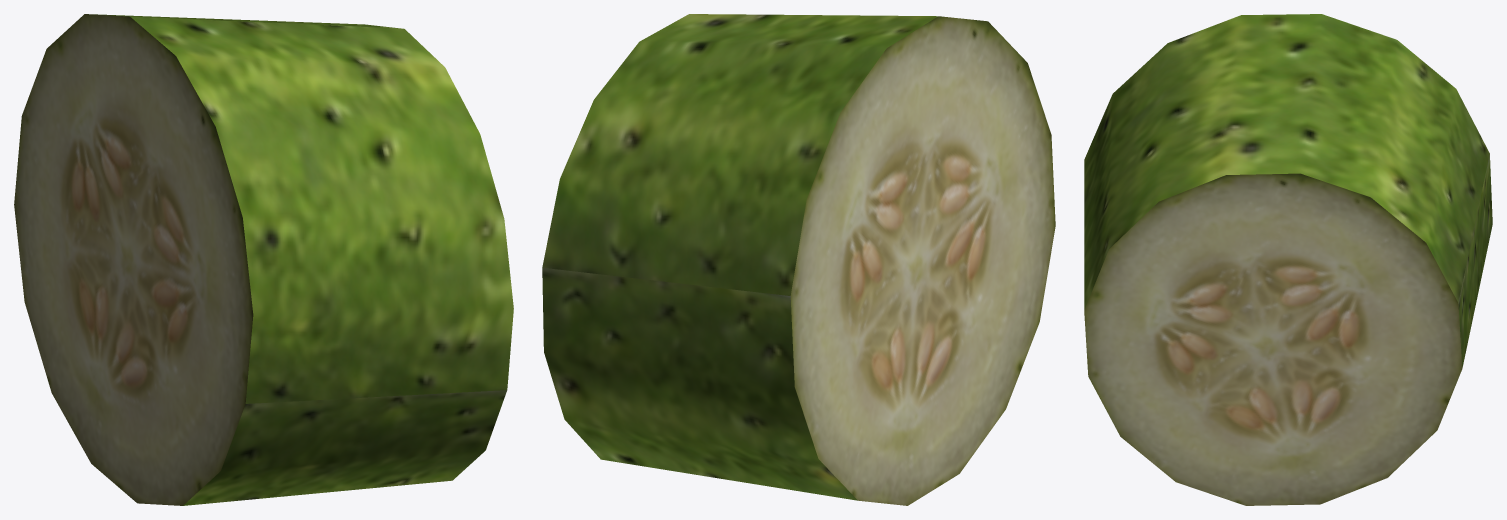
Rendered from cucumber_part_3.fbx.
3 renders of one model, left to right at view 1: azimuth 30°, elevation 25°; view 2: azimuth 150°, elevation 25°; view 3: azimuth 270°, elevation 25°, orthographic. The views are drawn at different scales.
Parts seen in each view (by area): view 1: Cylinder.010; view 2: Cylinder.010; view 3: Cylinder.010.
Boxes of the visible parts, x1,y1,x2,y2 form: Cylinder.010: [14, 14, 513, 505]; Cylinder.010: [542, 14, 1055, 505]; Cylinder.010: [1084, 14, 1492, 505].
Bounding box in the file's own units: 7.63 × 11.81 × 11.01.
